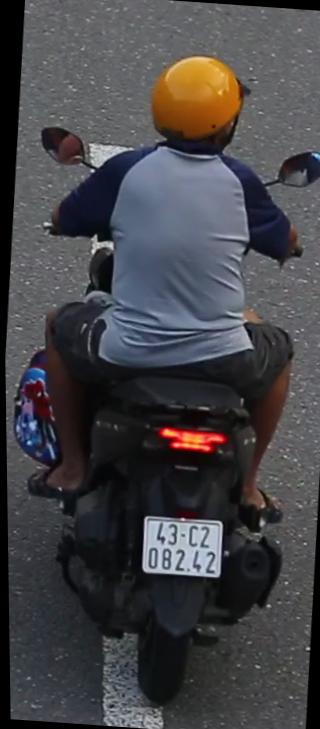LP: (134, 509, 226, 584)
helmet: (145, 46, 249, 162)
